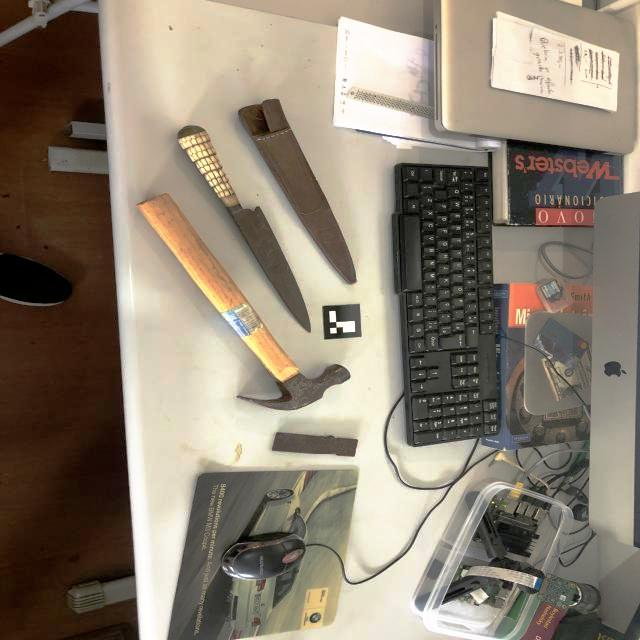Corrosion: (227, 206, 311, 333), (237, 364, 350, 410), (272, 432, 358, 457)
